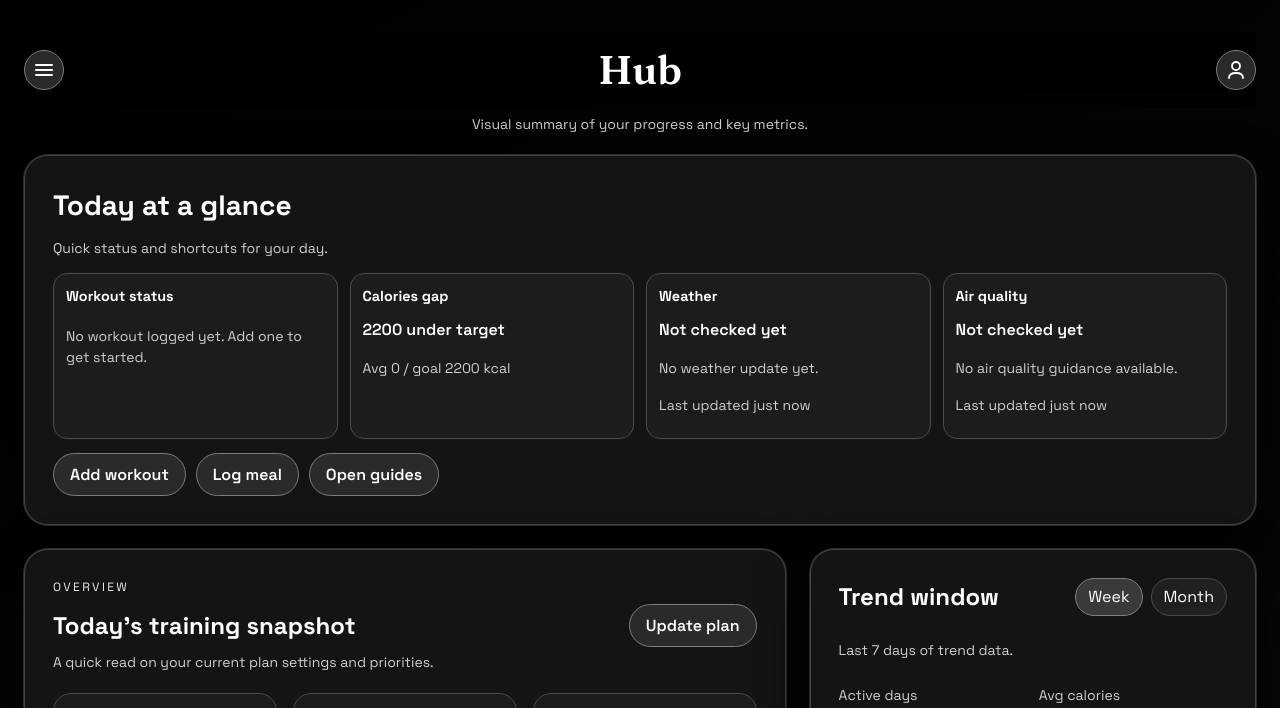
it: Dashboard integration flows › submits workout modal and shows success toast
Click the button "Add workout". click: (119, 474)
box: [53,453,186,496]
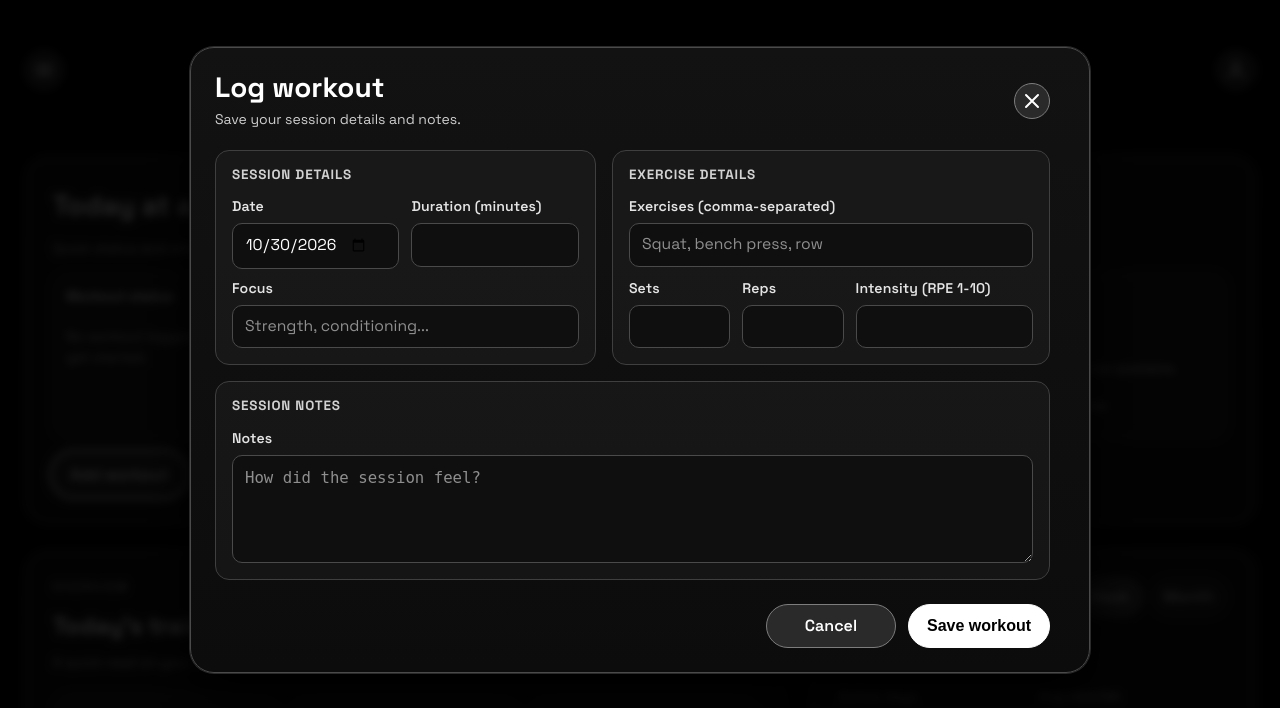
Type "45" into the number field labelled "Duration (minutes)". click: (495, 245)
box: [412,223,579,267]
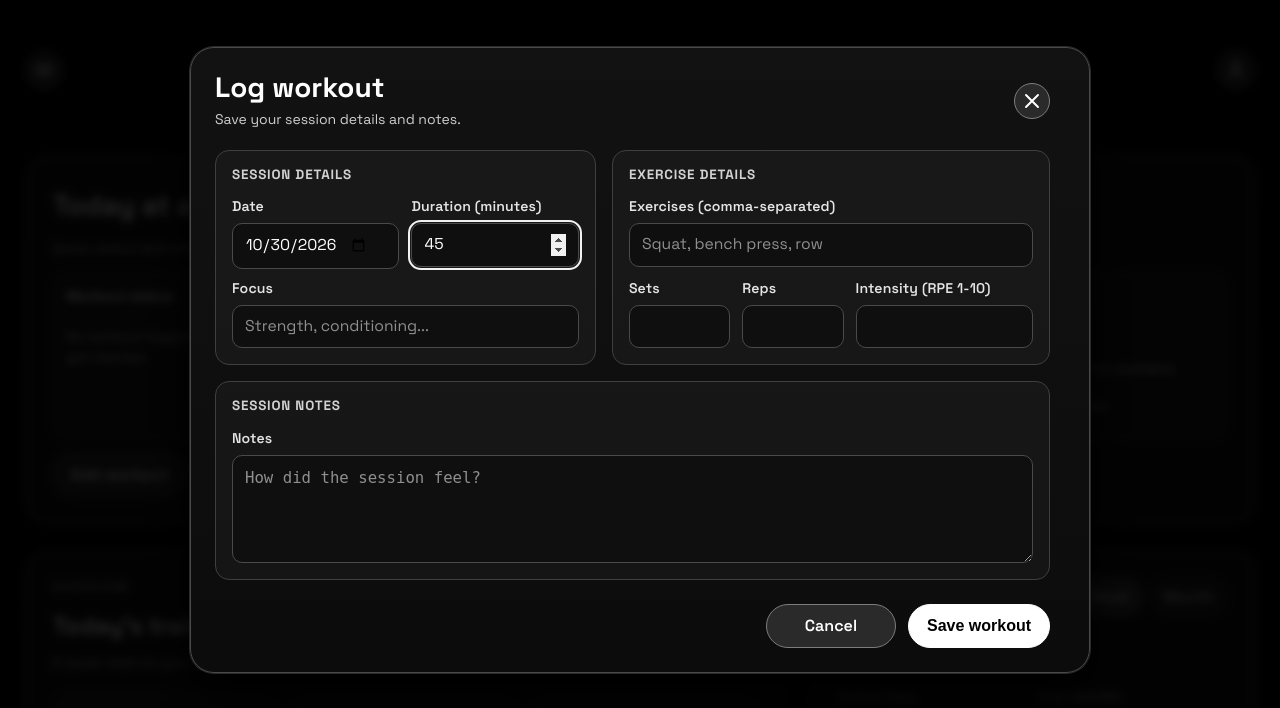
Click the button "Save workout". click: (979, 626)
box: [908,604,1050,648]
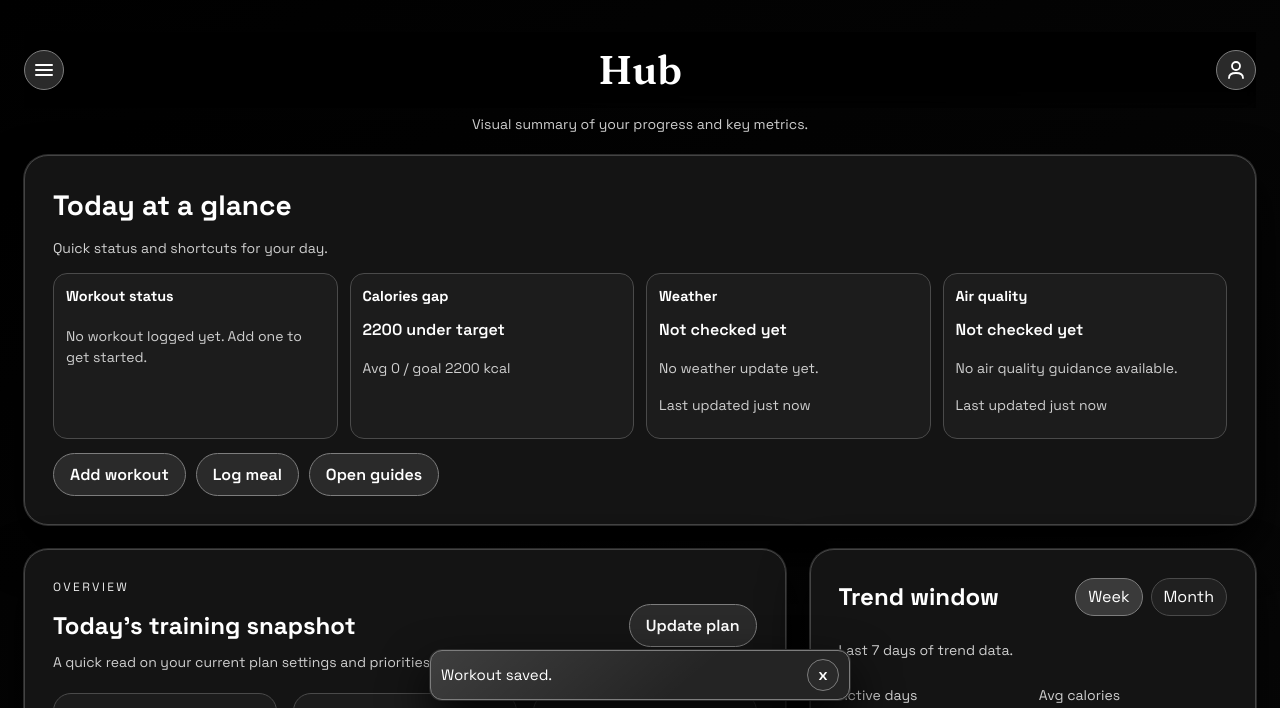
expect the heading "Log workout" is gone: met
expect the text "Workout saved." is shown: met, box [441,665,552,684]
